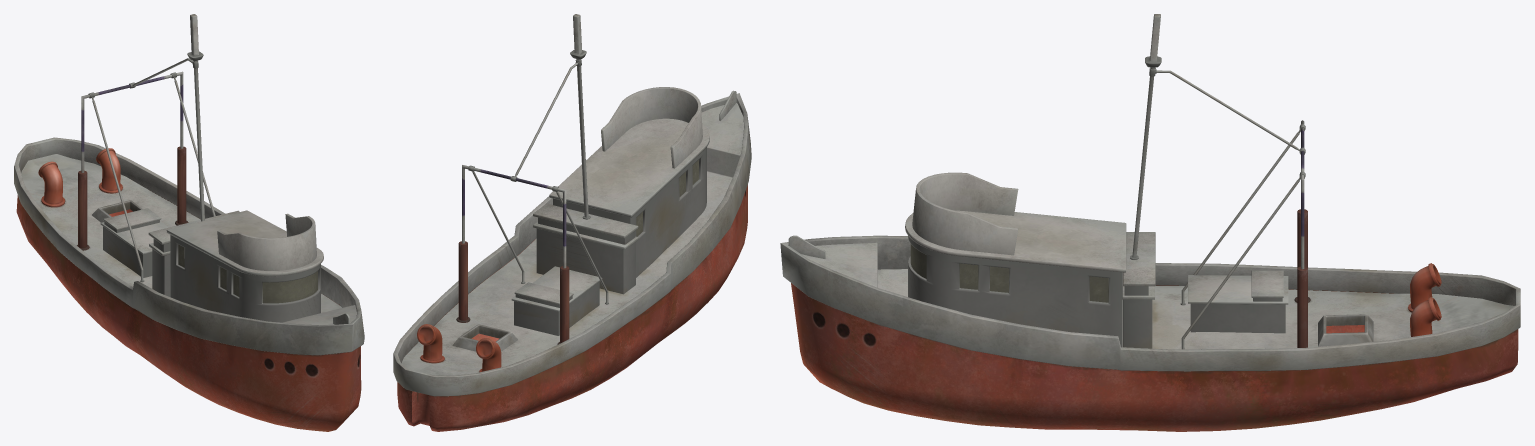
File: TTOTS Model boat.fbx
3 views of the same model, side by side, from view 1: azimuth 30°, elevation 25°; view 2: azimuth 150°, elevation 25°; view 3: azimuth 270°, elevation 25° (orthographic). The views are drawn at different scales.
Visible parts, largest first — view 1: Boat05_UV; view 2: Boat05_UV; view 3: Boat05_UV.
Boxes of the visible parts, x1,y1,x2,y2 form: Boat05_UV: (14,14,364,431); Boat05_UV: (393,14,751,431); Boat05_UV: (780,14,1520,431).
Bounding box in the file's own units: 443 × 918 × 1565.
1 material, 1 textured.
